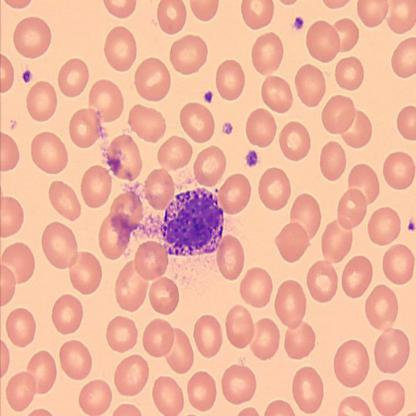Basophil: (160, 184, 226, 262)
